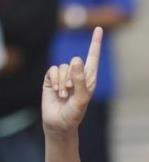up: (38, 23, 105, 130)
